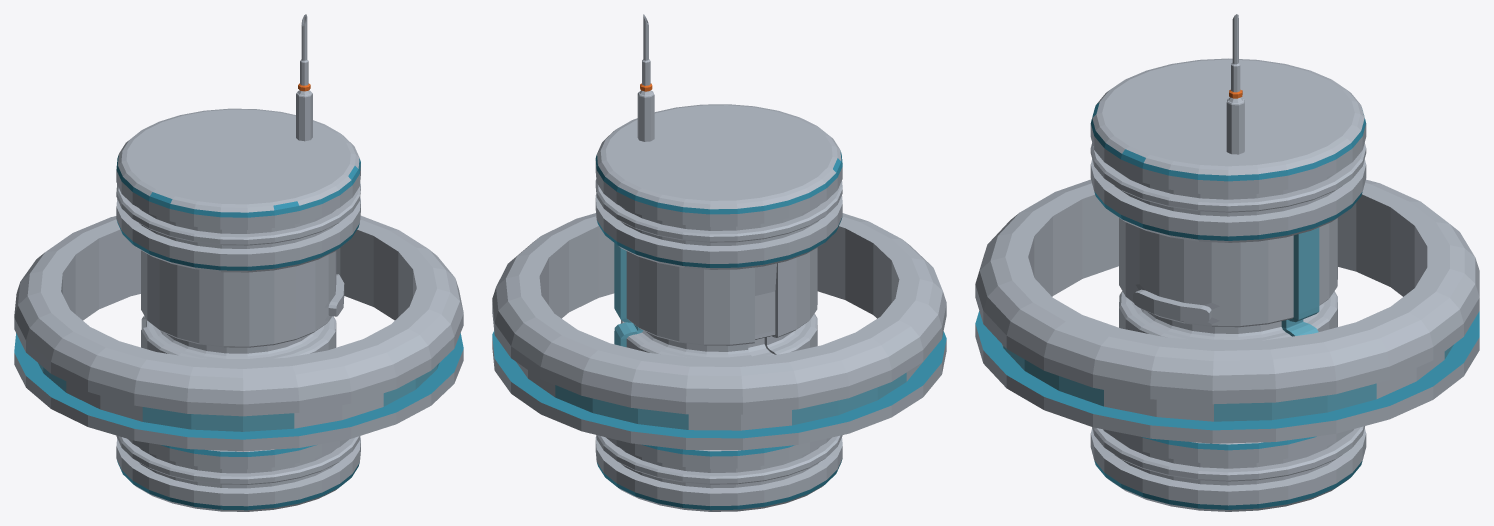
The model's file is Building_17.fbx.
3 views of the same model, side by side, from view 1: azimuth 30°, elevation 25°; view 2: azimuth 150°, elevation 25°; view 3: azimuth 270°, elevation 25° (orthographic). The views are drawn at different scales.
Visible parts, largest first — view 1: Building_17; view 2: Building_17; view 3: Building_17.
Part boxes in pixels (left/top/right/bottom): Building_17: left=14, top=14, right=463, bottom=511; Building_17: left=492, top=14, right=946, bottom=511; Building_17: left=975, top=14, right=1479, bottom=511.
Size of the model in its own units: 1211 by 1276 by 1208.
Materials: 2 (2 with a texture image).
